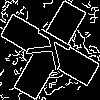K: (25, 25, 82, 77)
